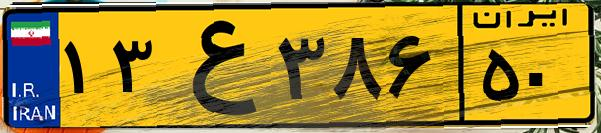0: (525, 38, 570, 115)
1: (57, 26, 110, 100)
3: (270, 28, 330, 110), (110, 28, 158, 98)
5: (475, 38, 525, 113)
6: (385, 28, 445, 110)
8: (330, 28, 385, 110)
ع: (158, 12, 270, 120)
